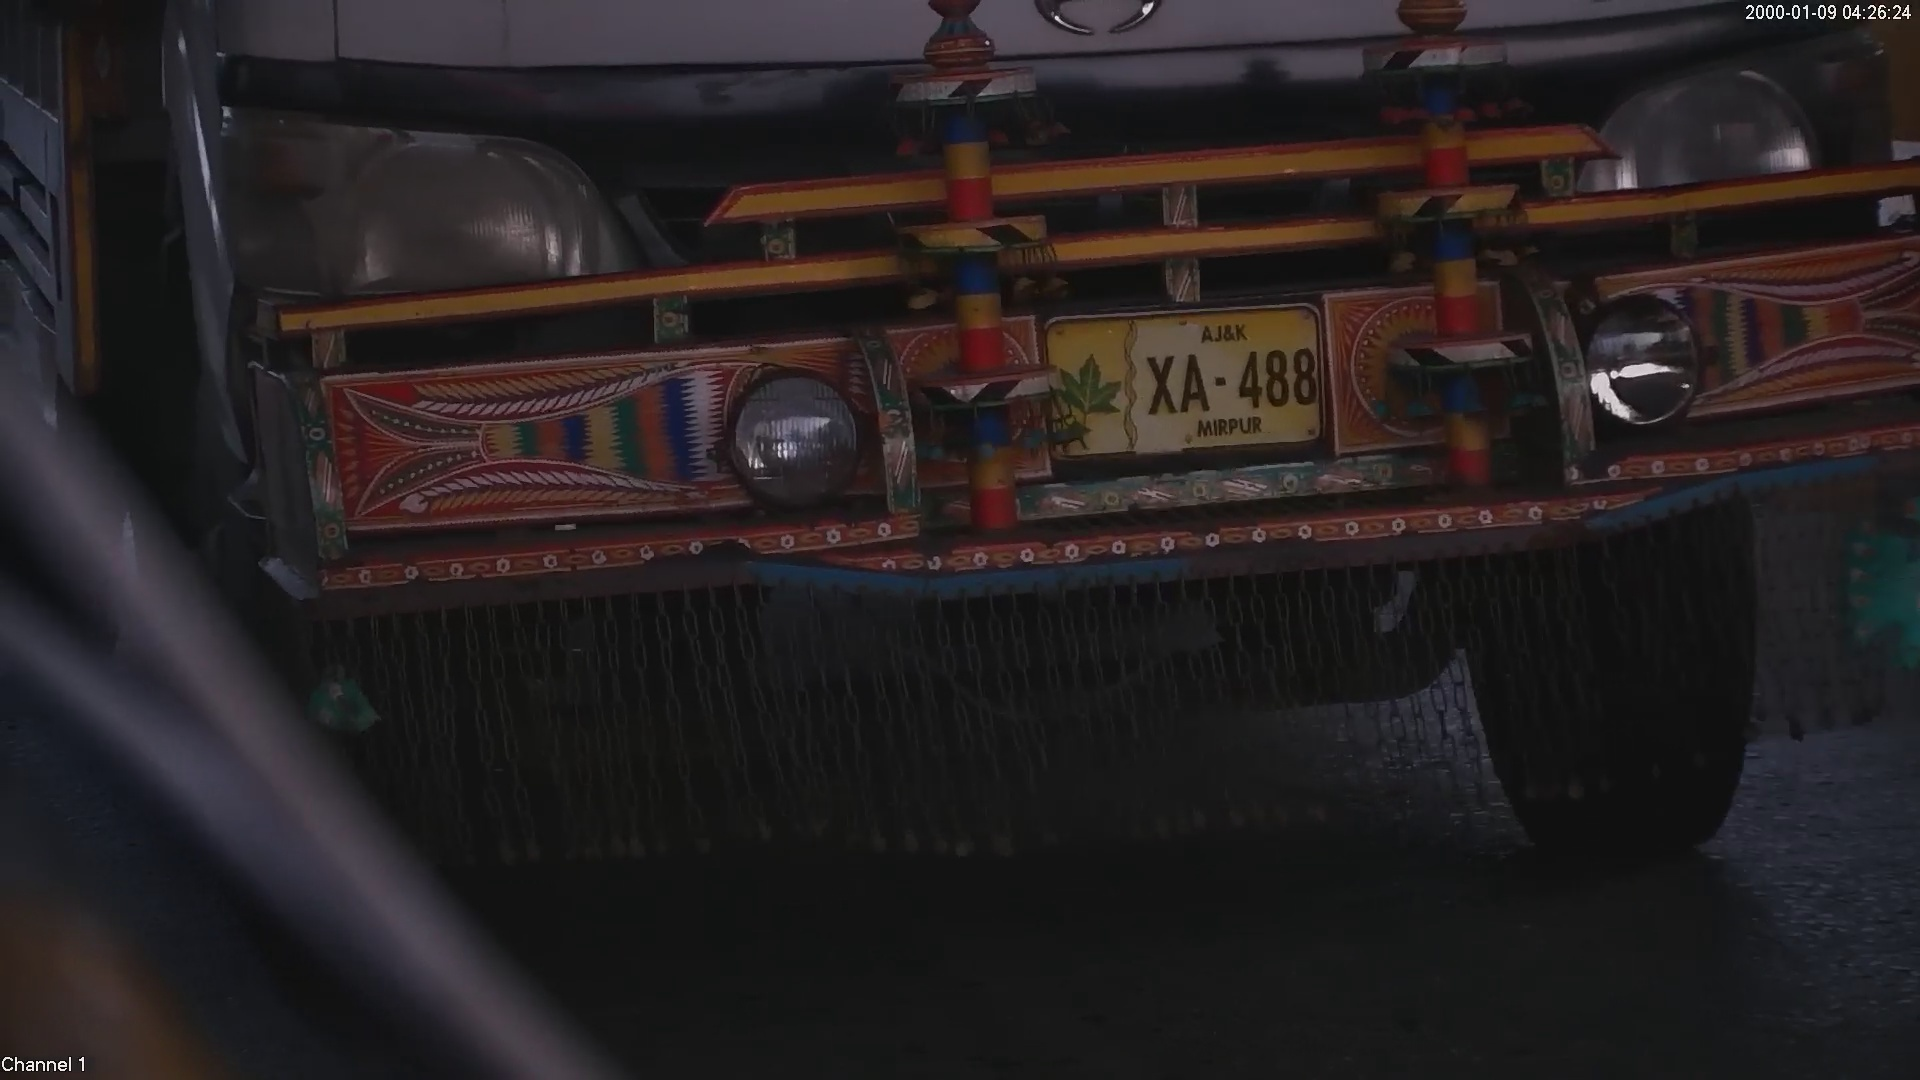Number_Plate: (1023, 283, 1347, 473)
